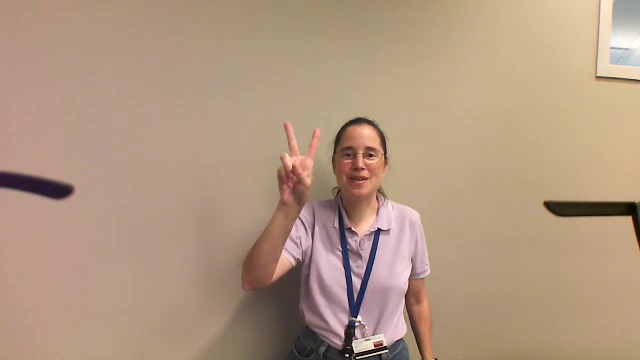peace: (270, 118, 323, 208)
